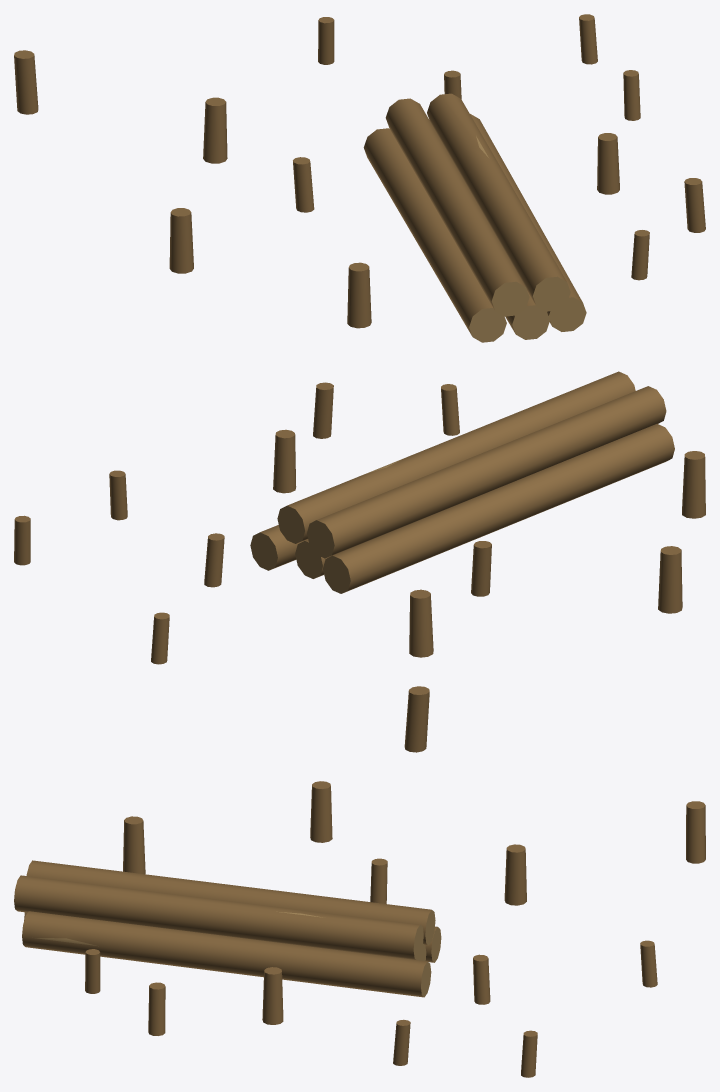
Rendered from quaternius-real-time-strategy-resource-tree-group-cut.glb.
3 renders of one model, top to bottom at view 1: azimuth 30°, elevation 25°; view 2: azimuth 150°, elevation 25°; view 3: azimuth 270°, elevation 25°, orthographic. The views are drawn at different scales.
Visible parts, largest first — view 1: Resource_Tree_Group_Cut; view 2: Resource_Tree_Group_Cut; view 3: Resource_Tree_Group_Cut.
Part boxes in pixels (x1=…): Resource_Tree_Group_Cut: x1=14, y1=14, x2=705, y2=342; Resource_Tree_Group_Cut: x1=14, y1=371, x2=705, y2=752; Resource_Tree_Group_Cut: x1=14, y1=781, x2=705, y2=1077.
Size of the model in its own units: 1.53 by 0.1701 by 1.84.
